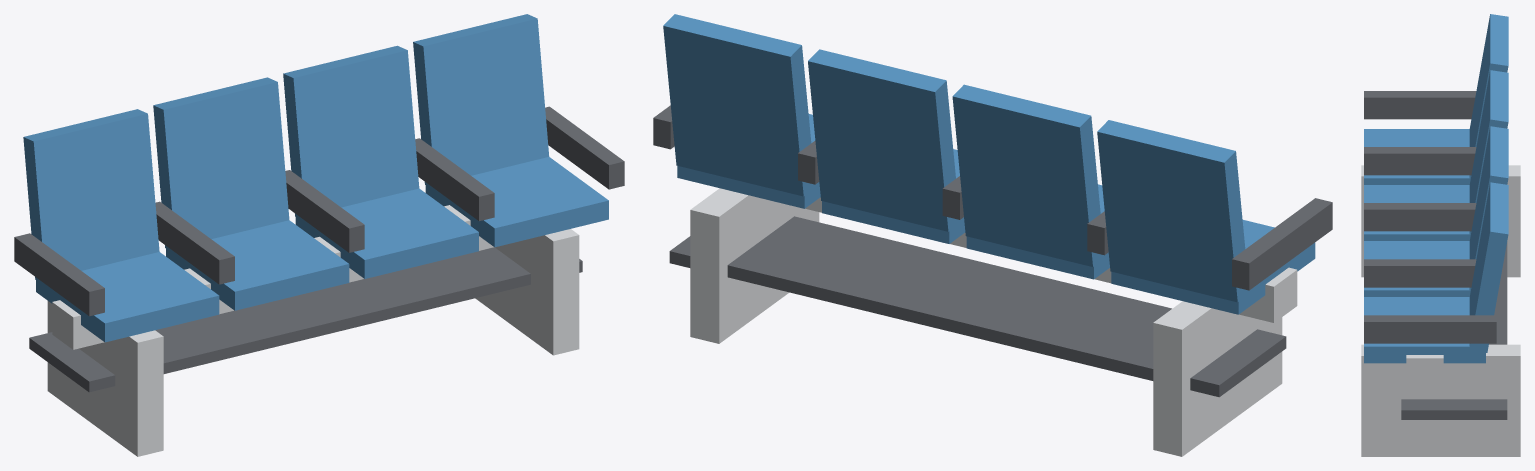
The model's file is ferry-terminal-and-harbour-crossing-ferry-terminal-and-f29e8c88__35653.glb.
The picture shows the model from 3 angles, left to right: view 1: azimuth 30°, elevation 25°; view 2: azimuth 150°, elevation 25°; view 3: azimuth 270°, elevation 25°; orthographic projection. The views are drawn at different scales.
Visible parts, largest first — view 1: ferry-terminal-and-harbour-crossing-seating-bank; view 2: ferry-terminal-and-harbour-crossing-seating-bank; view 3: ferry-terminal-and-harbour-crossing-seating-bank.
Boxes of the visible parts, x1,y1,x2,y2 form: ferry-terminal-and-harbour-crossing-seating-bank: [14, 14, 624, 456]; ferry-terminal-and-harbour-crossing-seating-bank: [653, 14, 1332, 456]; ferry-terminal-and-harbour-crossing-seating-bank: [1361, 14, 1520, 456].
Bounding box in the file's own units: 2.06 × 0.9924 × 0.5999.
